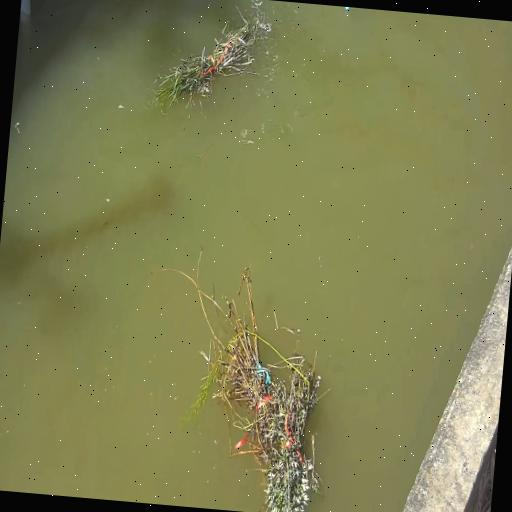twig: (161, 248, 323, 512), (155, 0, 271, 106)
